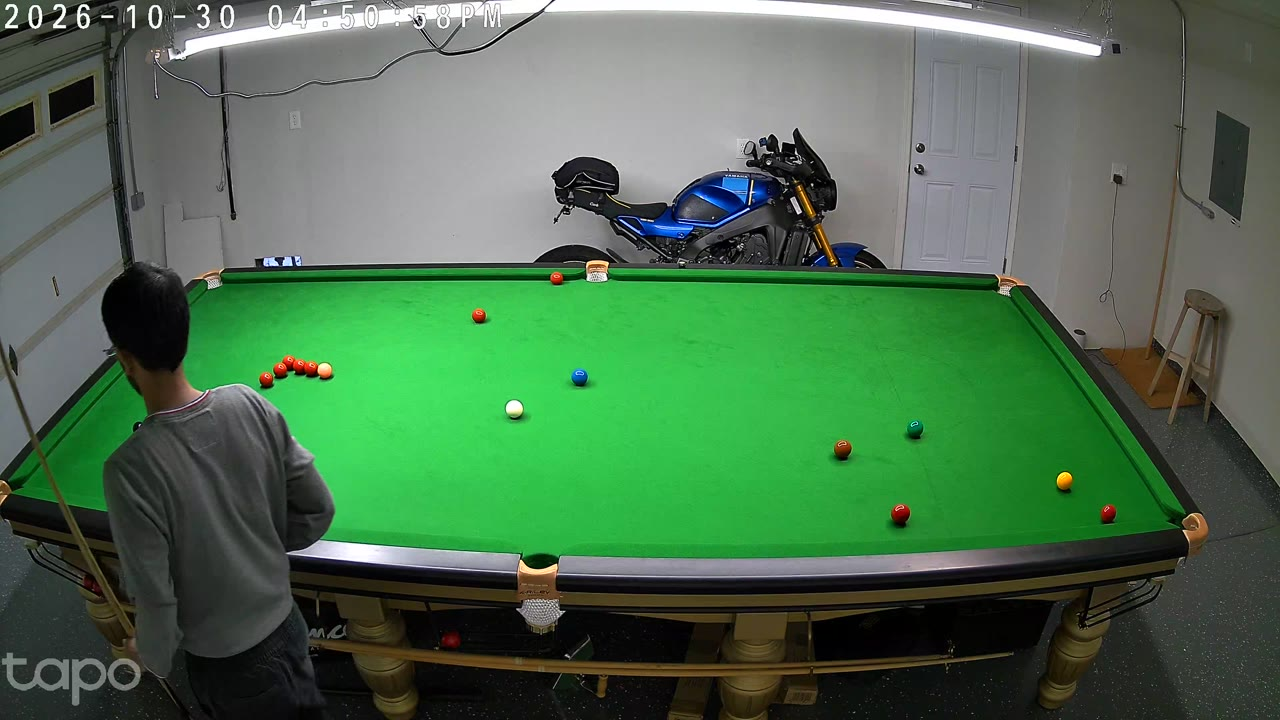blue: (572, 367, 588, 389)
brown: (834, 438, 852, 461)
green: (907, 417, 923, 441)
pink: (319, 361, 332, 381)
red: (890, 501, 910, 528), (1100, 502, 1116, 527), (260, 371, 273, 391), (472, 307, 485, 326), (274, 362, 286, 381), (305, 360, 316, 379), (284, 354, 295, 371), (295, 358, 305, 376), (551, 271, 562, 287)
white: (506, 398, 523, 421)
yellow: (1056, 470, 1073, 494)
